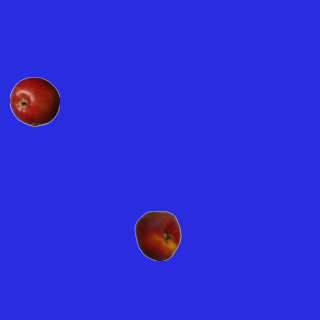Apple Braeburn: (9, 76, 59, 126)
Nectarine Flat: (132, 210, 182, 260)
